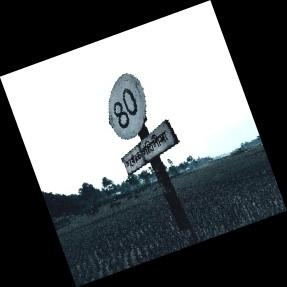Speed-limit: (108, 73, 181, 179)
